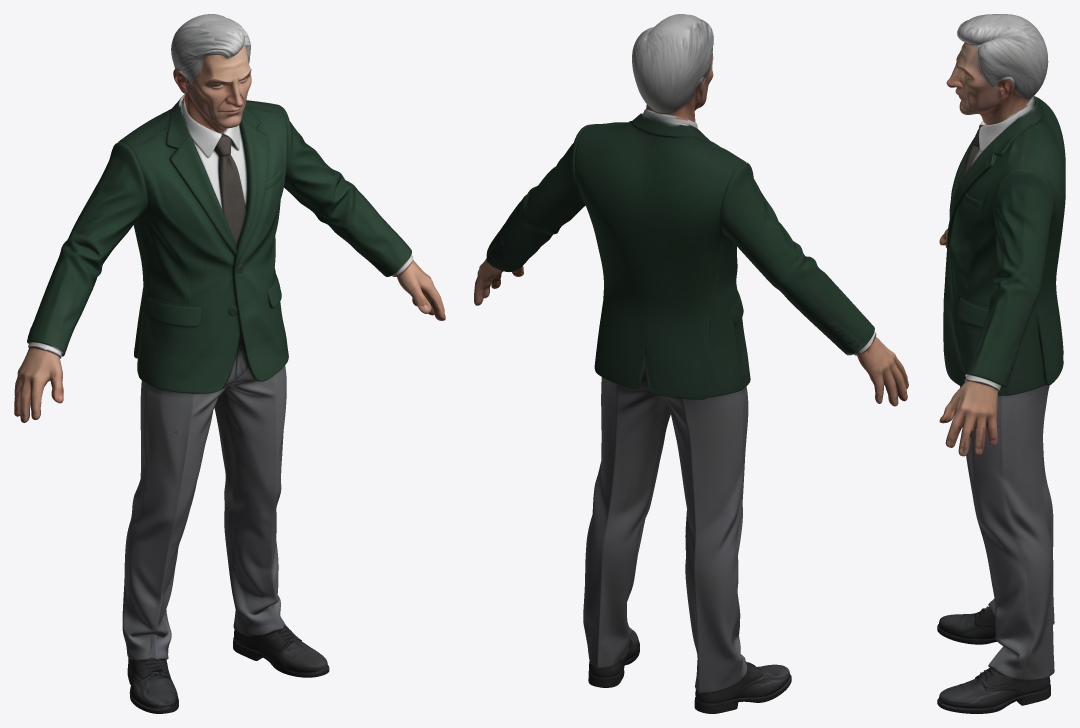
The picture shows the model from 3 angles, left to right: view 1: azimuth 30°, elevation 25°; view 2: azimuth 150°, elevation 25°; view 3: azimuth 270°, elevation 25°; orthographic projection.
Parts seen in each view (by area): view 1: node_0; view 2: node_0; view 3: node_0.
Boxes of the visible parts, x1,y1,x2,y2 form: node_0: [14, 14, 445, 713]; node_0: [474, 14, 908, 713]; node_0: [937, 14, 1065, 713].
Size of the model in its own units: 25392 by 37754 by 6738.
Materials: 1 (1 with a texture image).
